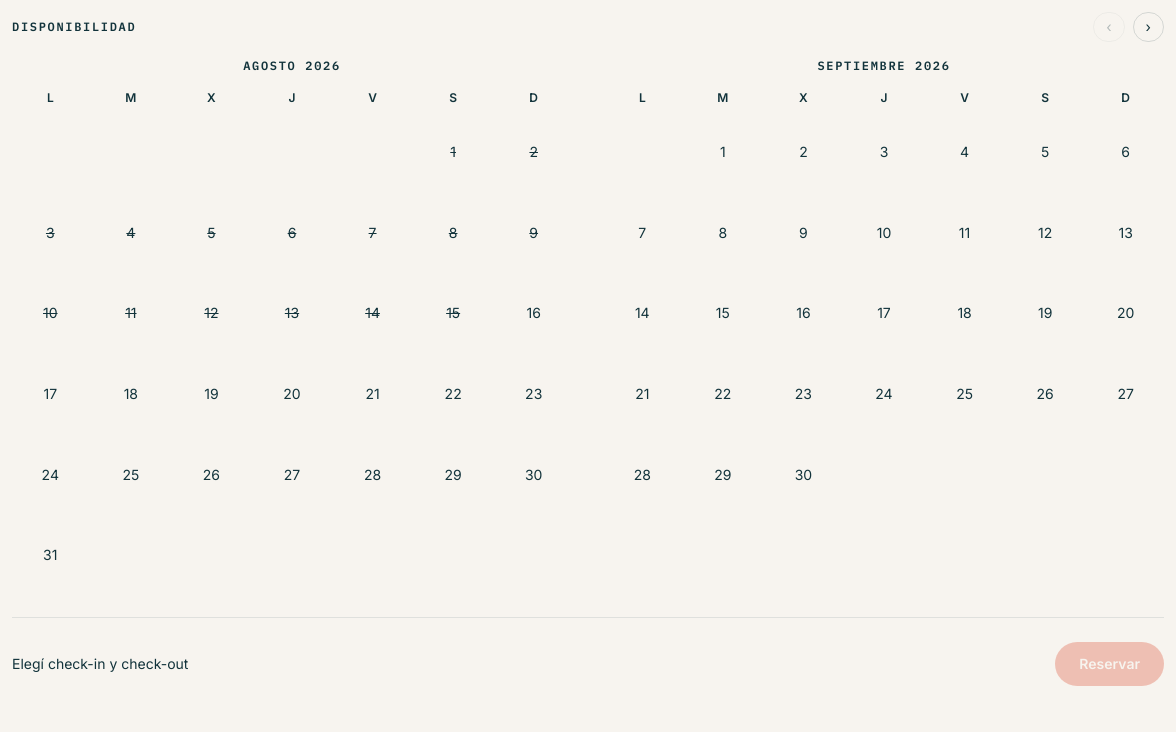
Test: AvailabilityCalendar — navegación de meses › avanzar y volver deja el botón de mes anterior deshabilitado de nuevo
Click the button named "Mes siguiente".
click(1148, 27)  # box [1133,12,1164,42]
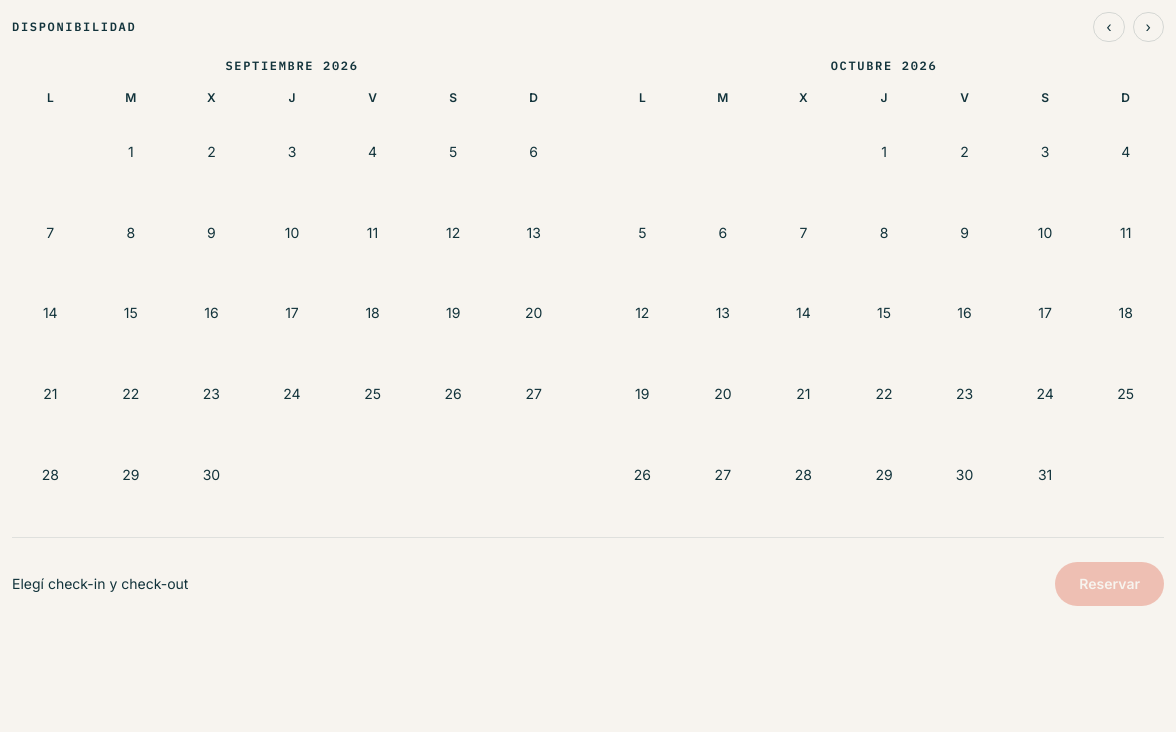
Click the button named "Mes anterior".
click(1109, 27)  # box [1093,12,1125,42]
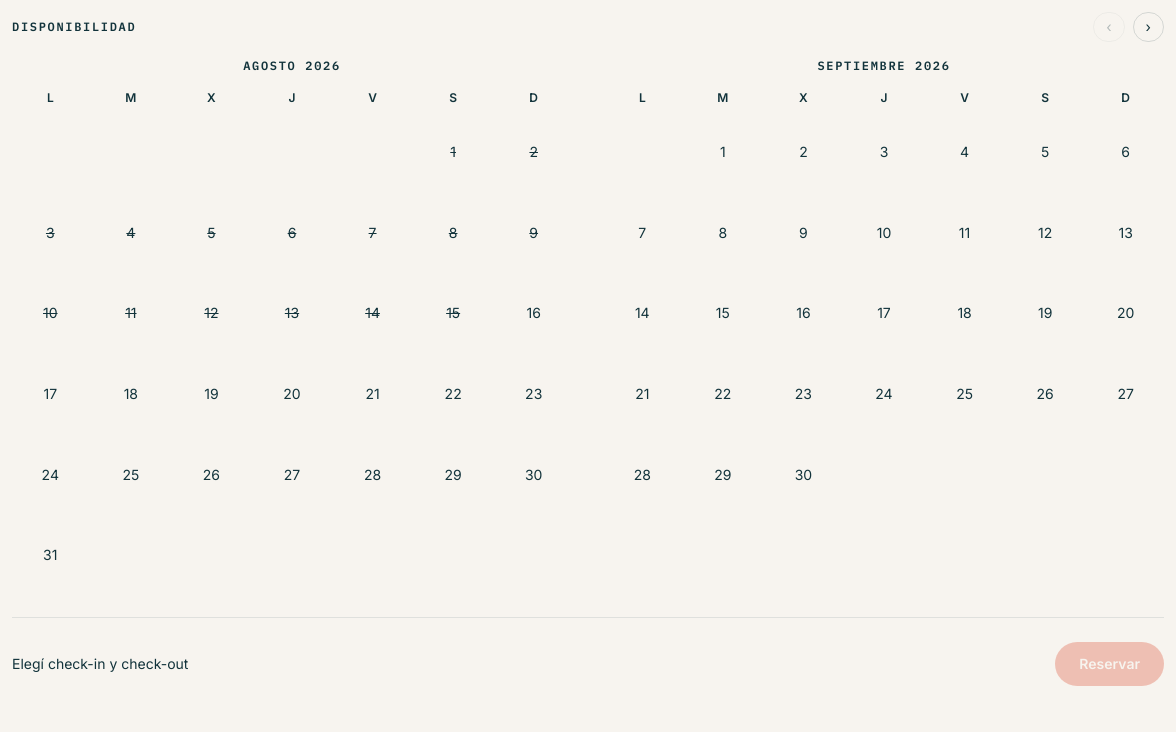
Check: the text "Agosto 2026" is shown, box [243,58,341,73]
